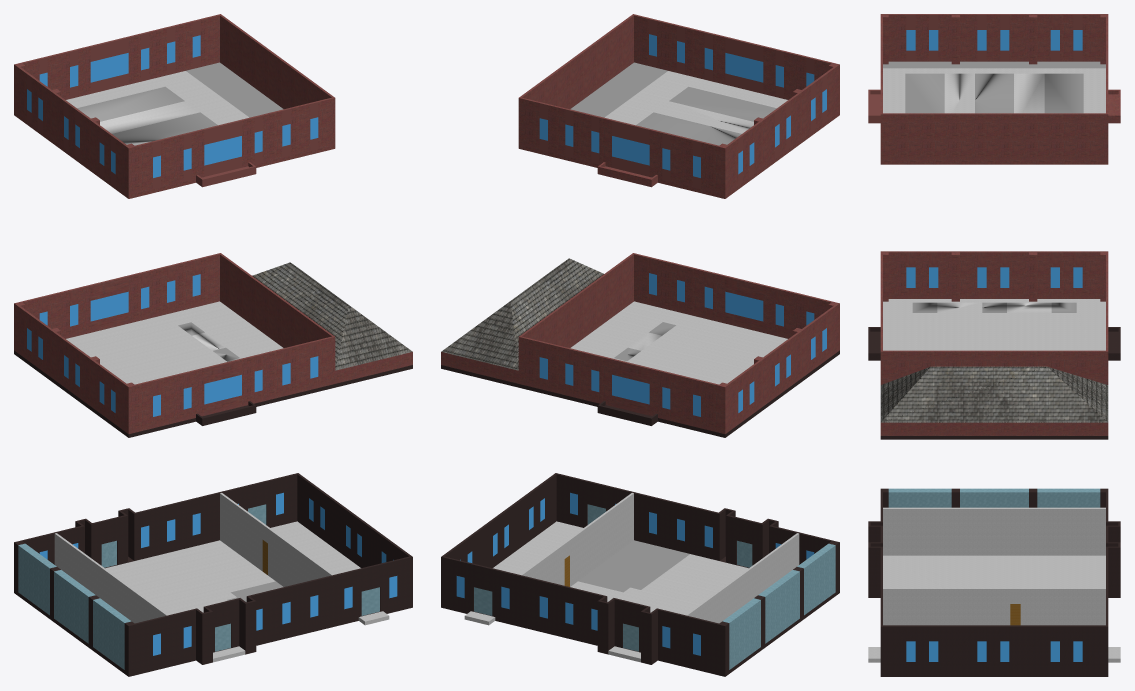
Rendered from Dewatering_Building_expansion.glb.
3 renders of one model, left to right at view 1: azimuth 30°, elevation 25°; view 2: azimuth 150°, elevation 25°; view 3: azimuth 270°, elevation 25°, orthographic.
Parts seen in each view (by area): view 1: Floor1, Floor2, Floor3; view 2: Floor1, Floor2, Floor3; view 3: Floor1, Floor2, Floor3.
Boxes of the visible parts, left/top/right/bottom form: Floor1: left=14, top=473, right=412, bottom=676; Floor2: left=14, top=253, right=412, bottom=437; Floor3: left=14, top=14, right=335, bottom=198; Floor1: left=441, top=473, right=839, bottom=676; Floor2: left=441, top=253, right=839, bottom=437; Floor3: left=518, top=14, right=839, bottom=198; Floor1: left=868, top=488, right=1120, bottom=676; Floor2: left=868, top=251, right=1120, bottom=439; Floor3: left=868, top=14, right=1120, bottom=164.
Size of the model in its own units: 31.62 by 56.2 by 24.5.
Materials: 8 (7 with a texture image).
